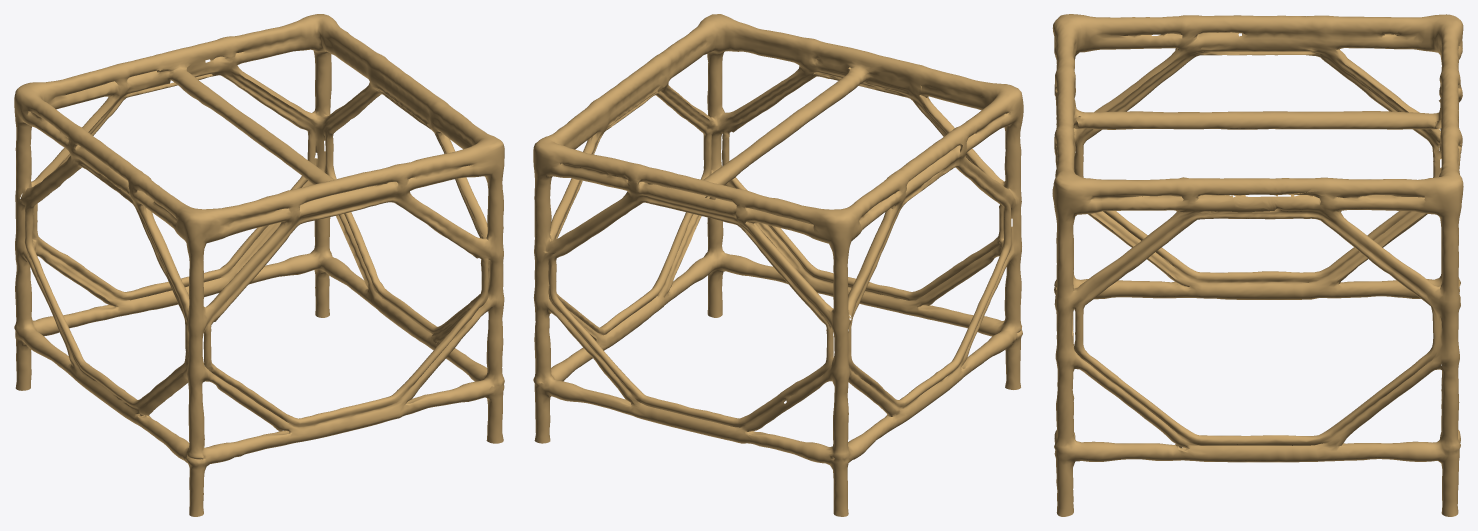
Rendered from bamboo-frame-on-table.glb.
3 renders of one model, left to right at view 1: azimuth 30°, elevation 25°; view 2: azimuth 150°, elevation 25°; view 3: azimuth 270°, elevation 25°, orthographic. The views are drawn at different scales.
Parts seen in each view (by area): view 1: bamboo-frame-on-table; view 2: bamboo-frame-on-table; view 3: bamboo-frame-on-table.
Boxes of the visible parts, left/top/right/bottom form: bamboo-frame-on-table: left=14, top=14, right=504, bottom=516; bamboo-frame-on-table: left=533, top=14, right=1023, bottom=516; bamboo-frame-on-table: left=1052, top=14, right=1463, bottom=516.
Bounding box in the file's own units: 0.2992 × 0.27 × 0.2994.
